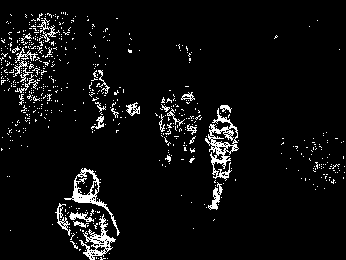person: (50, 164, 121, 260), (206, 104, 246, 216), (182, 84, 204, 170), (155, 90, 180, 165), (89, 67, 112, 133)
